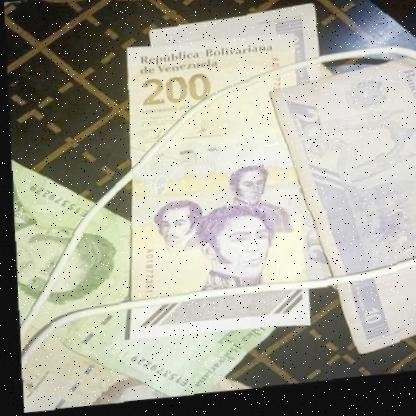fifty-front-vef: (6, 132, 293, 415)
five-front-vef: (12, 277, 250, 416)
ten-back-vef: (144, 14, 342, 309), (263, 61, 416, 368)
two_hundred-front-vef: (114, 35, 313, 348)
